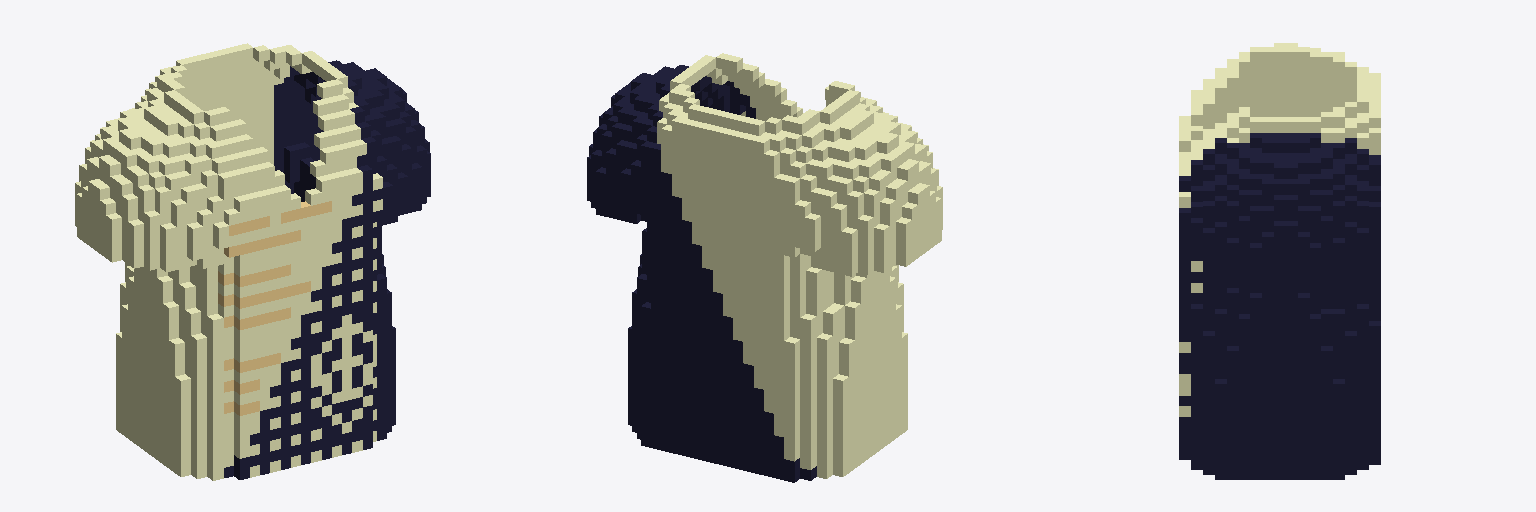
The picture shows the model from 3 angles: view 1: azimuth 30°, elevation 25°; view 2: azimuth 150°, elevation 25°; view 3: azimuth 270°, elevation 25°; orthographic projection.
Visible parts, largest first — view 1: object 1; view 2: object 1; view 3: object 1.
Part boxes in pixels (bbox=[...]): object 1: bbox=[75, 43, 430, 480]; object 1: bbox=[587, 53, 942, 482]; object 1: bbox=[1179, 43, 1380, 479].
Bounding box in the file's own units: 3.1 × 3.2 × 1.7.
Materials: 1 (1 with a texture image).